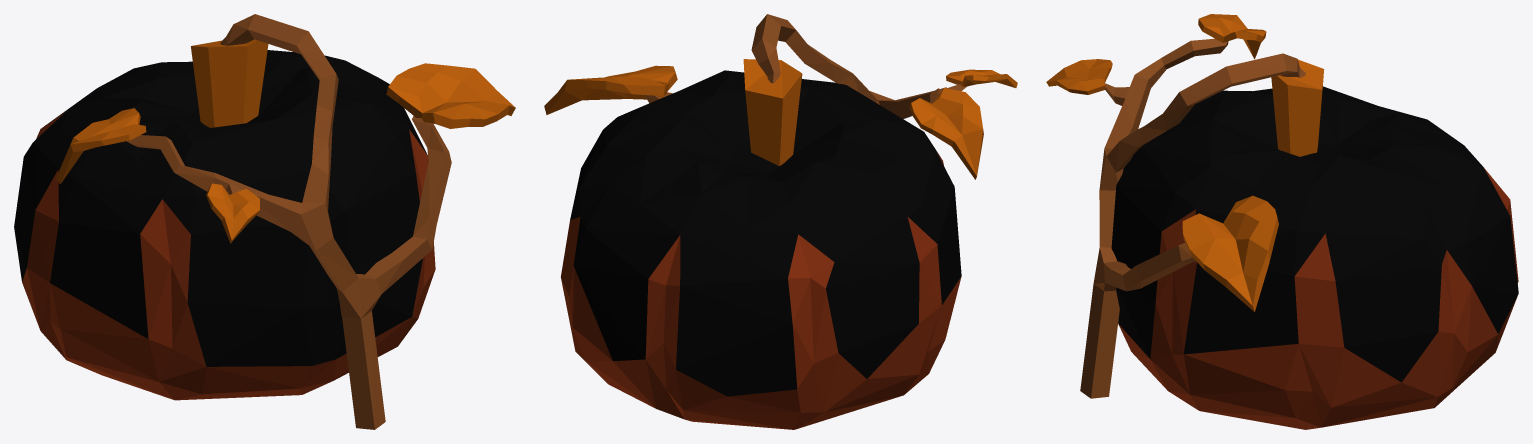
Rendered from Pumpkin_L_Dead.fbx.
3 views of the same model, side by side, from view 1: azimuth 30°, elevation 25°; view 2: azimuth 150°, elevation 25°; view 3: azimuth 270°, elevation 25° (orthographic). The views are drawn at different scales.
Visible parts, largest first — view 1: Pumpkin_L_Dead.001, Pumpkin_L_Dead; view 2: Pumpkin_L_Dead.001, Pumpkin_L_Dead; view 3: Pumpkin_L_Dead.001, Pumpkin_L_Dead.
Boxes of the visible parts, left/top/right/bottom form: Pumpkin_L_Dead.001: left=14, top=39, right=435, bottom=400; Pumpkin_L_Dead: left=56, top=14, right=515, bottom=429; Pumpkin_L_Dead.001: left=561, top=59, right=961, bottom=429; Pumpkin_L_Dead: left=544, top=14, right=1017, bottom=179; Pumpkin_L_Dead.001: left=1111, top=59, right=1518, bottom=429; Pumpkin_L_Dead: left=1046, top=14, right=1305, bottom=398.
Size of the model in its own units: 68.56 by 49.43 by 63.54.
